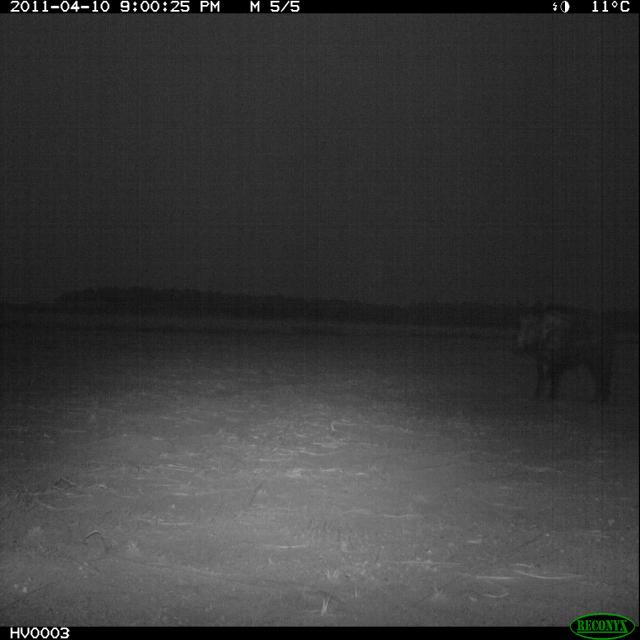boar: (498, 288, 634, 425)
